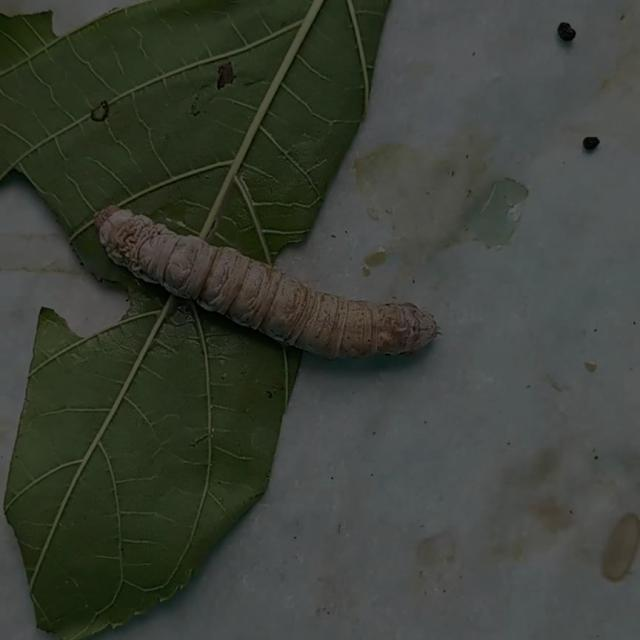Grasserie: (85, 188, 445, 380)
